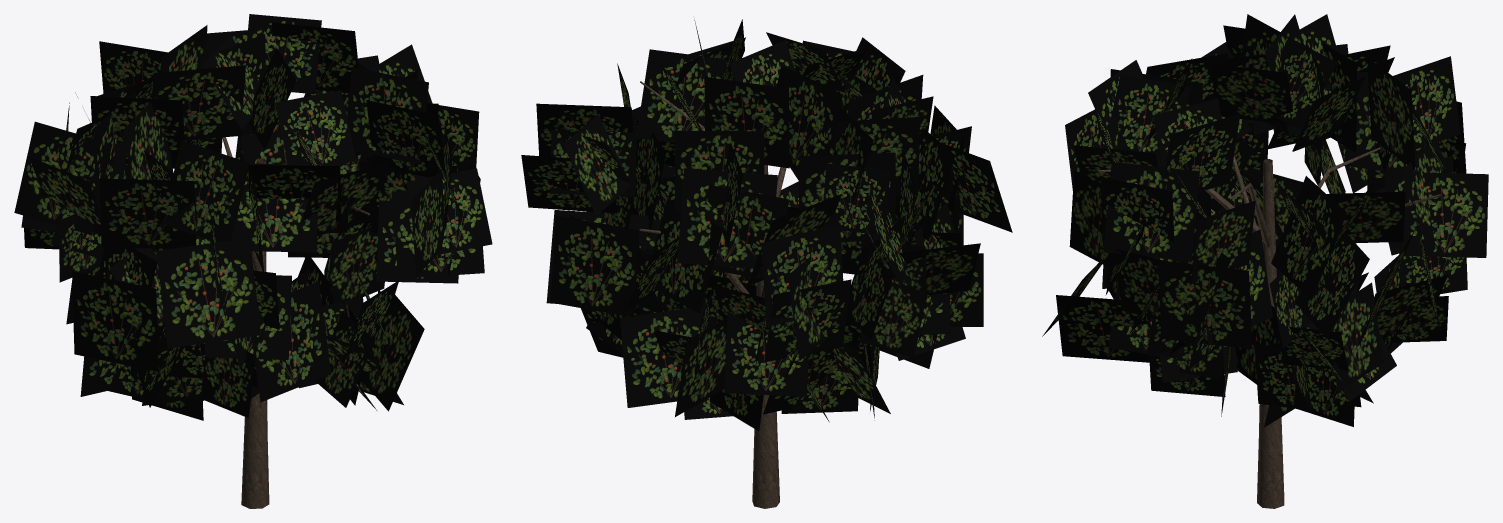
The model's file is tpl_orchard_meadow.glb.
The picture shows the model from 3 angles, left to right: view 1: azimuth 30°, elevation 25°; view 2: azimuth 150°, elevation 25°; view 3: azimuth 270°, elevation 25°; orthographic projection.
Parts seen in each view (by area): view 1: tpl_orchard_meadow; view 2: tpl_orchard_meadow; view 3: tpl_orchard_meadow.
Part boxes in pixels (bbox=[...]): tpl_orchard_meadow: bbox=[14, 14, 492, 508]; tpl_orchard_meadow: bbox=[521, 19, 1012, 508]; tpl_orchard_meadow: bbox=[1042, 14, 1488, 508].
Bounding box in the file's own units: 6.02 × 5.97 × 5.42.
Materials: 2 (2 with a texture image).
